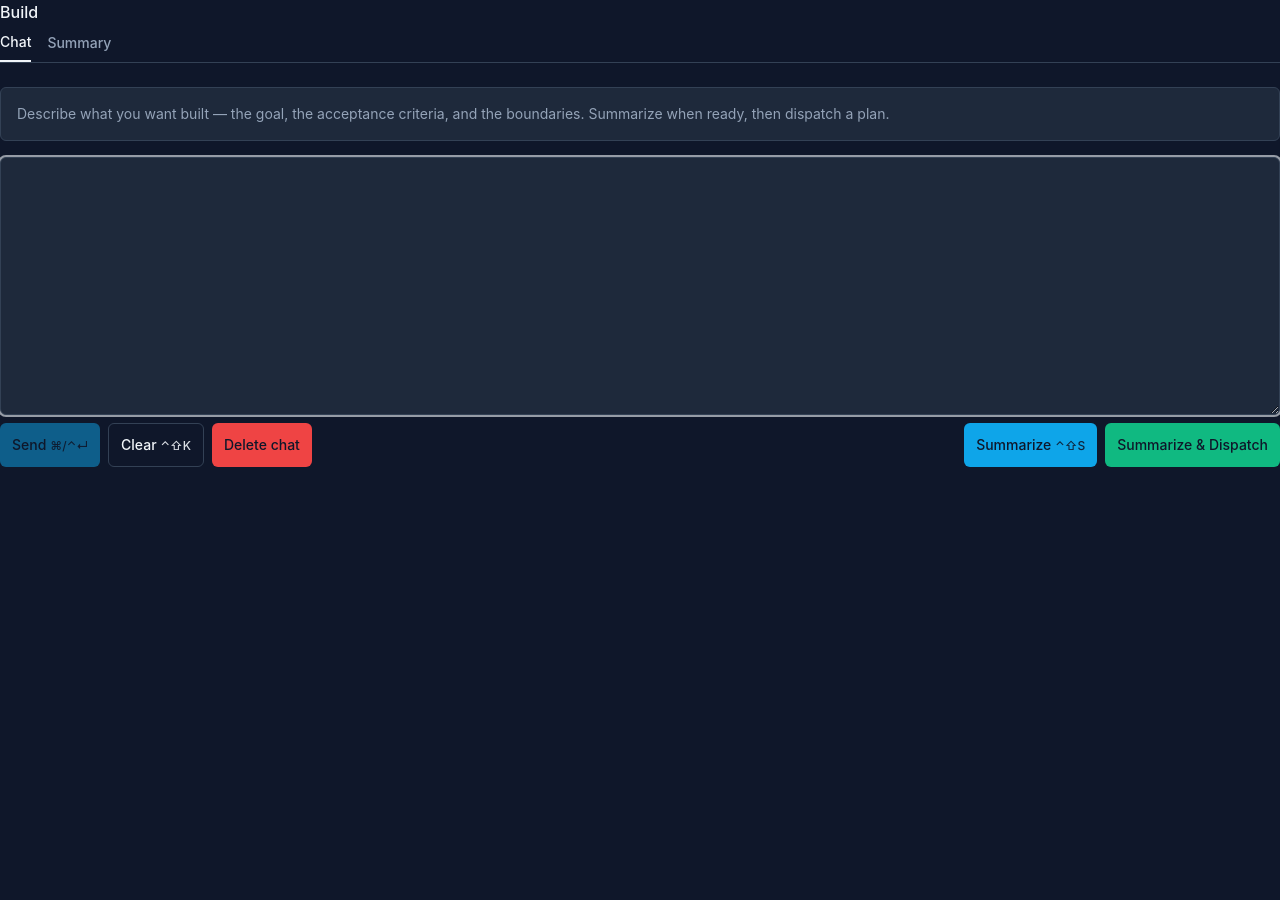
Test: BuildChat › In-chat delete › shows an inline error and stays in the chat when delete fails
Click the button with test id "delete-chat-button": (262, 445) [212,423,312,467]
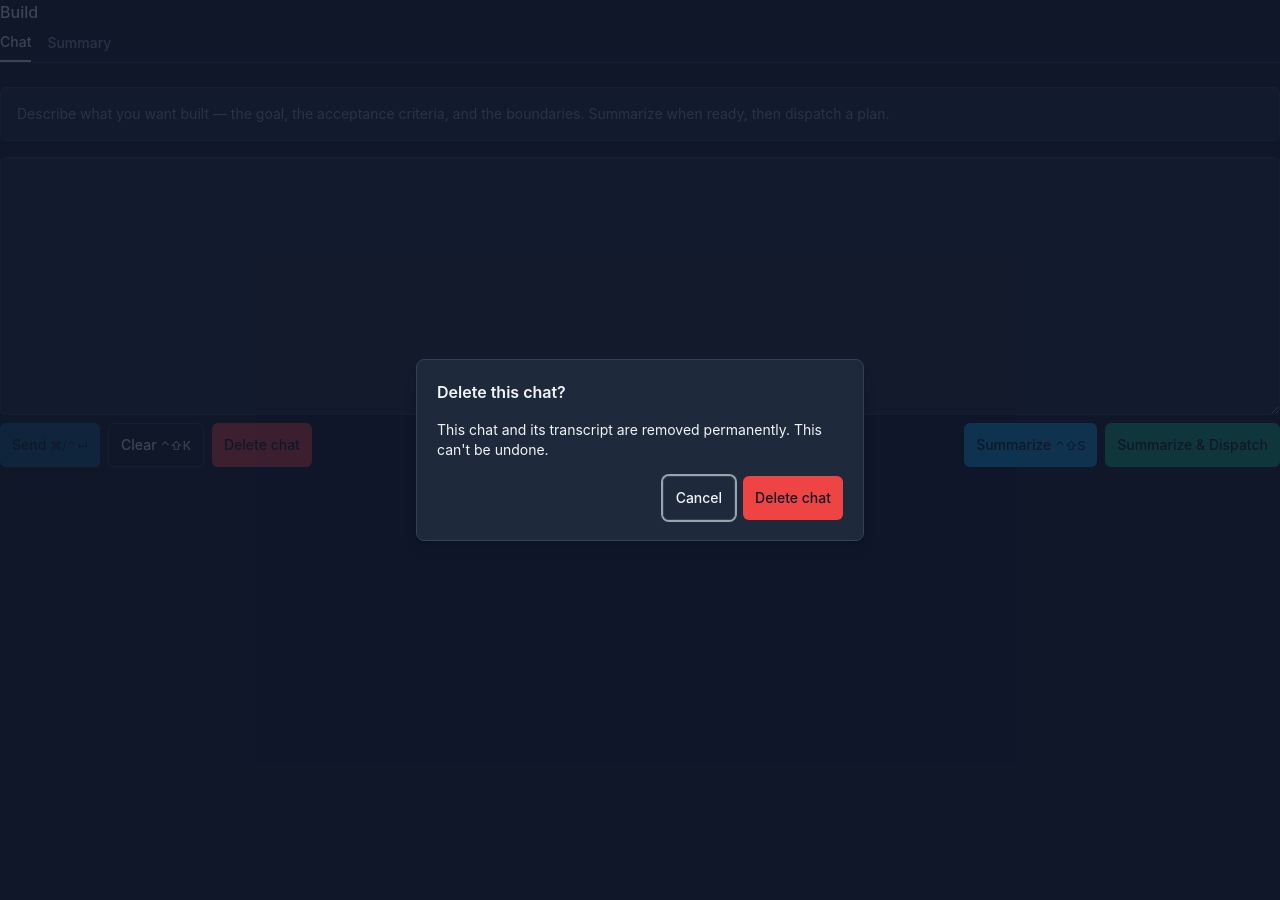
Click the button "Delete chat": (793, 498) [743,476,843,520]
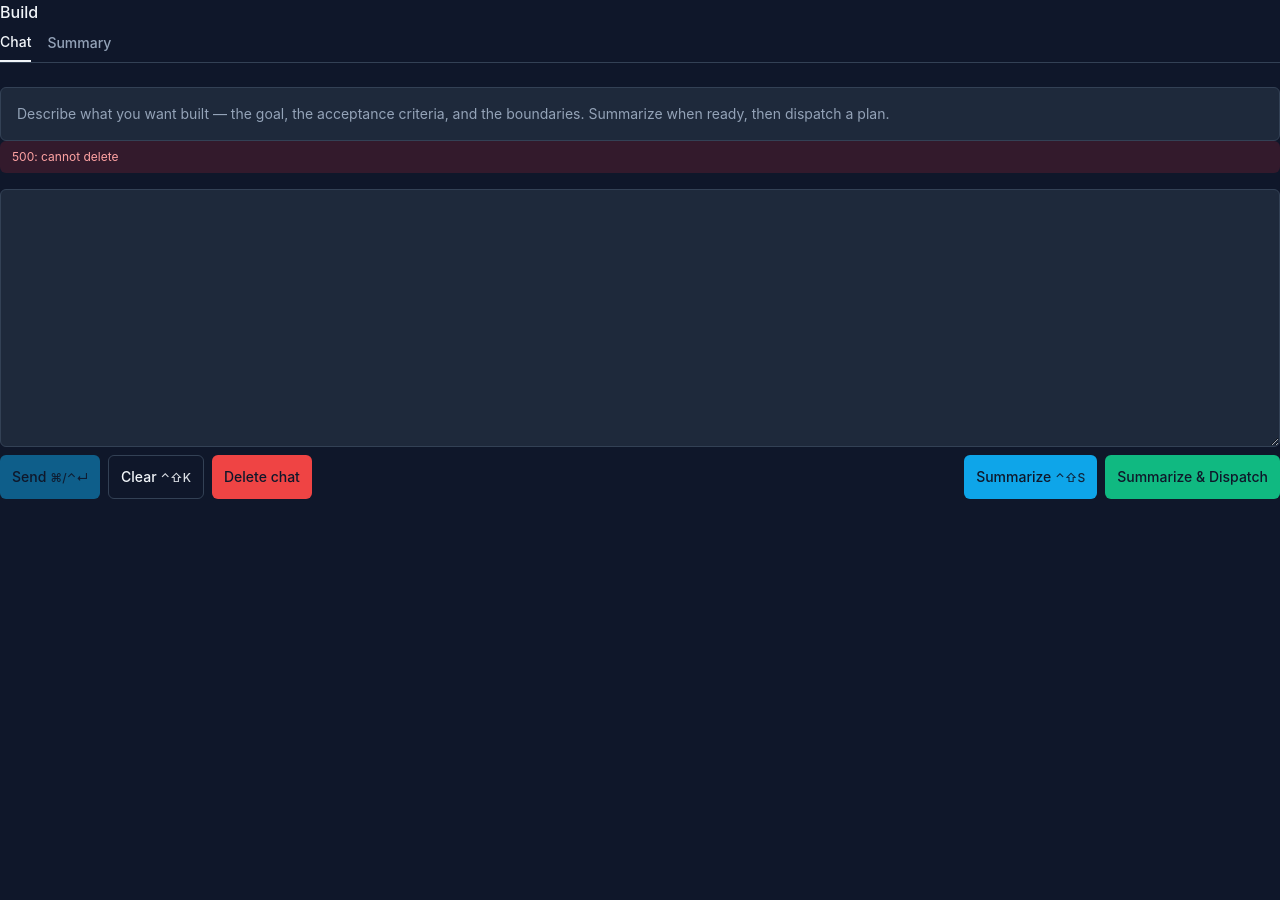
Expected: the button with test id "delete-chat-button" is enabled, [212,455,312,499]
Expected: the text "500: cannot delete" is shown, [0,141,1279,173]
